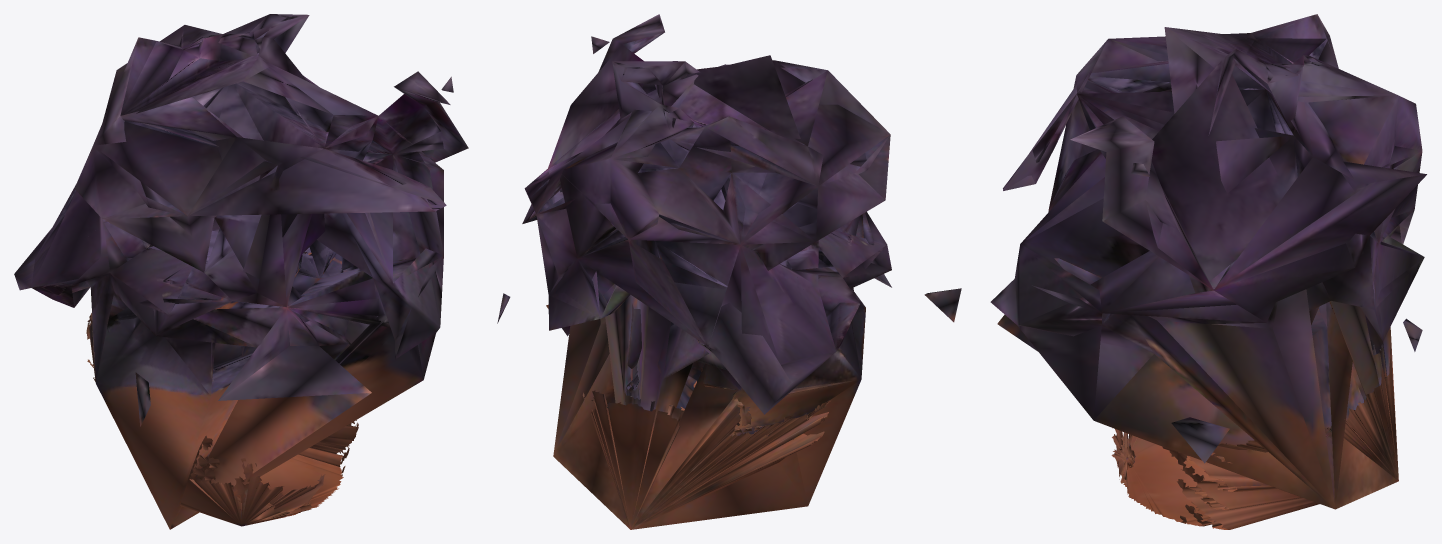
The model's file is heuchera.glb.
3 renders of one model, left to right at view 1: azimuth 30°, elevation 25°; view 2: azimuth 150°, elevation 25°; view 3: azimuth 270°, elevation 25°, orthographic. The views are drawn at different scales.
Size of the model in its own units: 1.6 by 1.9 by 1.61.
Materials: 1 (1 with a texture image).
